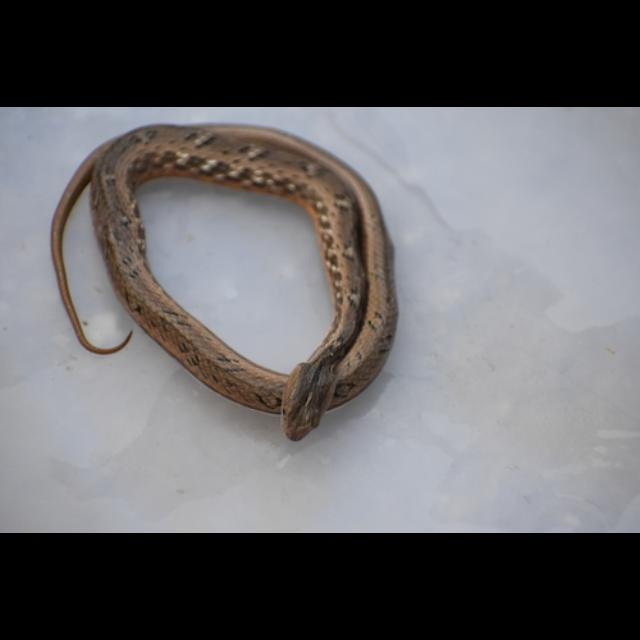snake: (47, 117, 400, 446)
